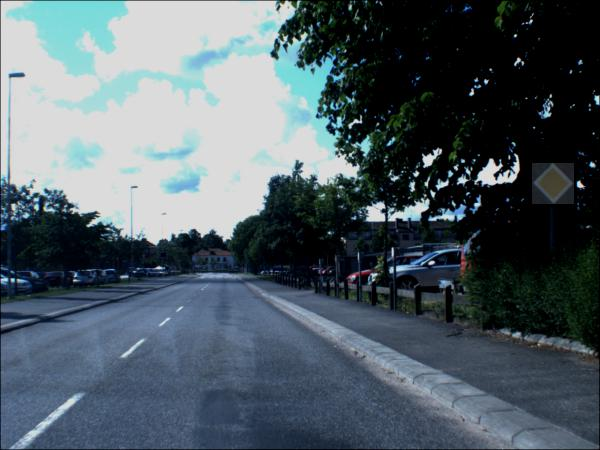PEDESTRIAN_CROSSING: (162, 254, 168, 259)
PRIORITY_ROAD: (533, 165, 576, 207)
